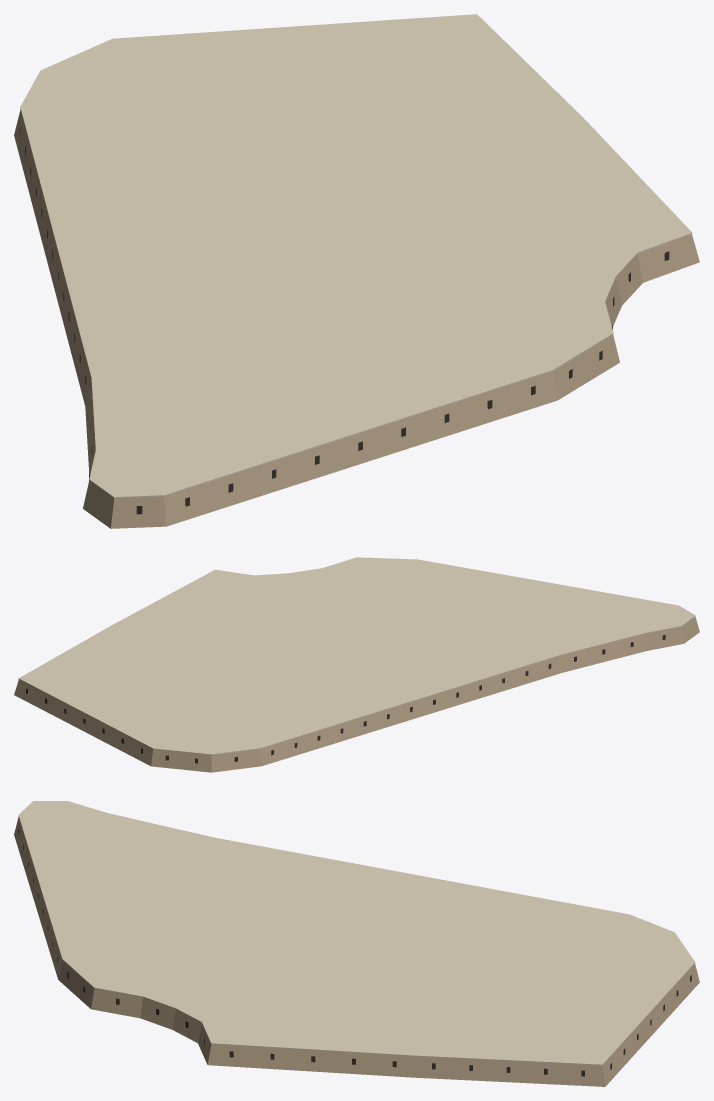
Rendered from festung-vauban-insel.glb.
3 views of the same model, one above another, from view 1: azimuth 30°, elevation 25°; view 2: azimuth 150°, elevation 25°; view 3: azimuth 270°, elevation 25° (orthographic). The views are drawn at different scales.
Parts seen in each view (by area): view 1: festung-vauban-insel_lod0; view 2: festung-vauban-insel_lod0; view 3: festung-vauban-insel_lod0.
Part boxes in pixels (x1,y1,x2,y2): festung-vauban-insel_lod0: (14, 14, 699, 528); festung-vauban-insel_lod0: (14, 557, 699, 772); festung-vauban-insel_lod0: (14, 801, 699, 1086).
Size of what is drawn, in the model's own units: 129 by 4.55 by 139.
